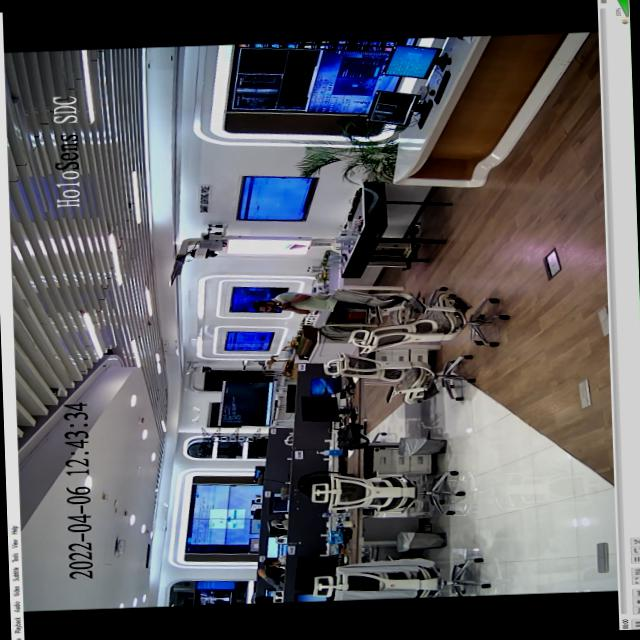long weapon: (272, 299, 292, 310)
